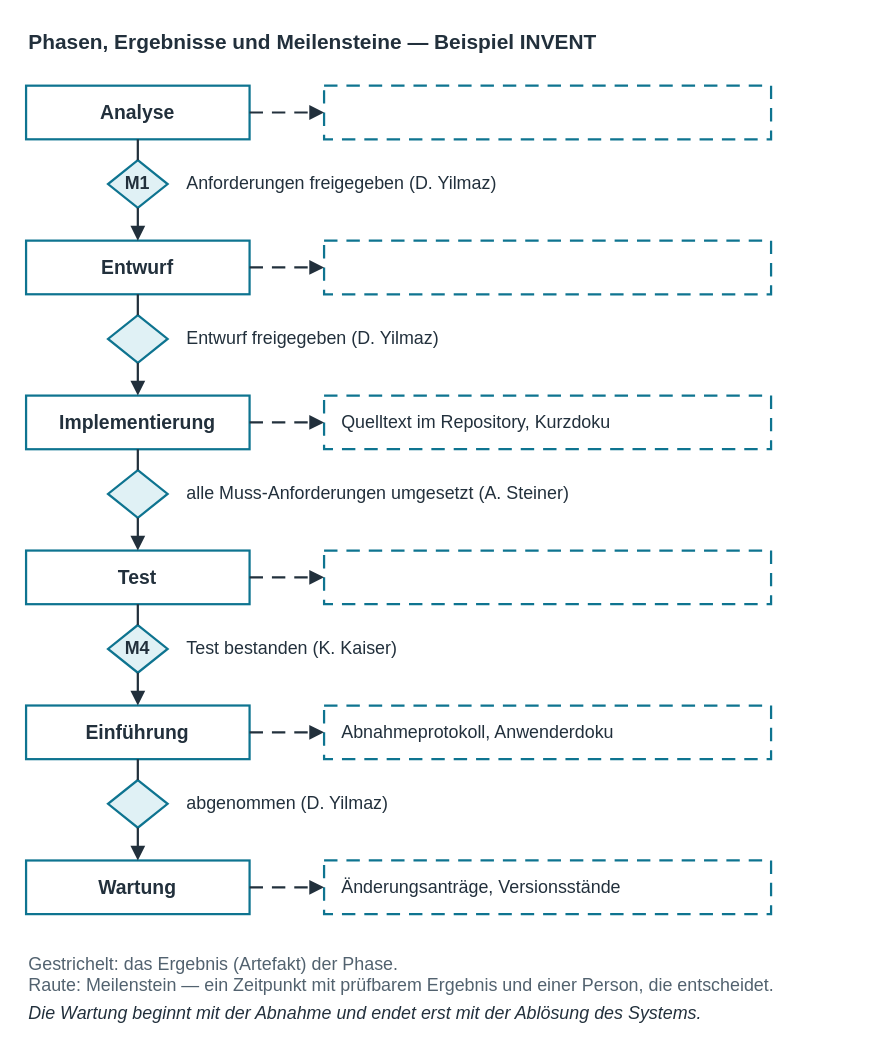
Some shapes in this 887 by 1052 pixel diagram are drawn without their labels. Here are the shapes that lost their labels. From the top down, the box of each, then its label:
(322, 84, 772, 140): Ist-Beschreibung, Anforderungsdokument (21)
(322, 239, 772, 295): Entwurfsdokument, Klassendiagramm
(106, 313, 168, 363): M2
(106, 468, 168, 518): M3
(322, 549, 772, 605): 34 Testfälle, Testprotokoll
(106, 778, 168, 828): M5
